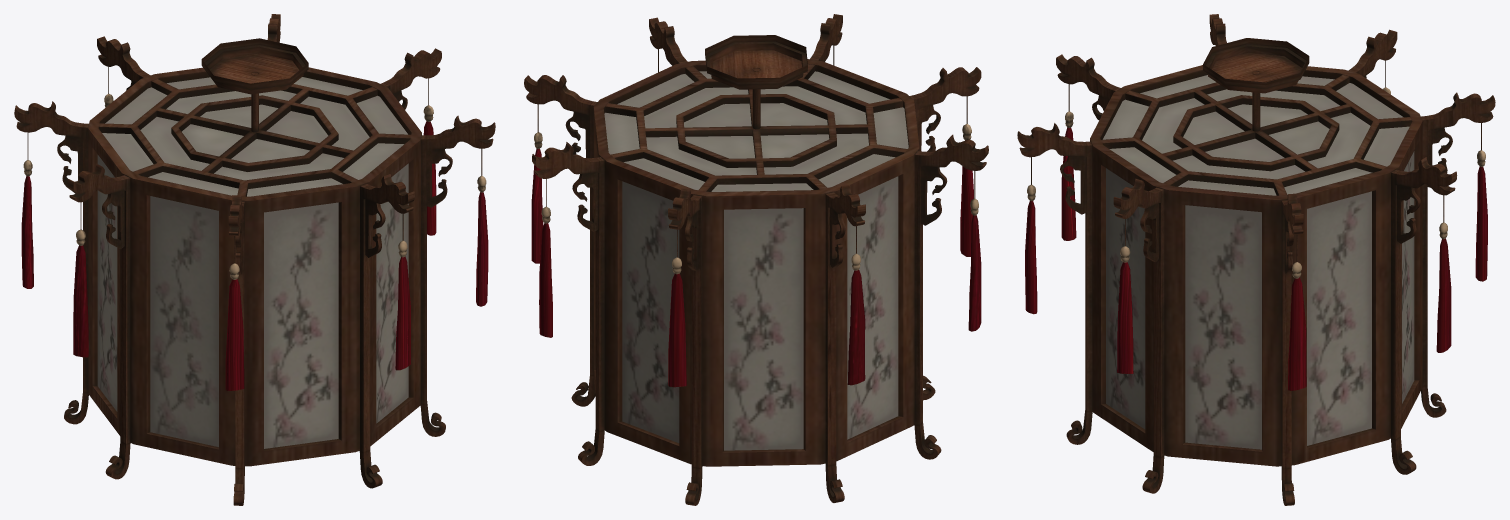
Rendered from chinese_chandelier.glb.
3 renders of one model, left to right at view 1: azimuth 30°, elevation 25°; view 2: azimuth 150°, elevation 25°; view 3: azimuth 270°, elevation 25°, orthographic.
Parts seen in each view (by area): view 1: chinese_chandelier; view 2: chinese_chandelier; view 3: chinese_chandelier.
Boxes of the visible parts, x1,y1,x2,y2 form: chinese_chandelier: [14, 14, 495, 505]; chinese_chandelier: [524, 14, 988, 505]; chinese_chandelier: [1017, 14, 1495, 505].
Bounding box in the file's own units: 0.8784 × 0.7482 × 0.8787.
1 material, 1 textured.
